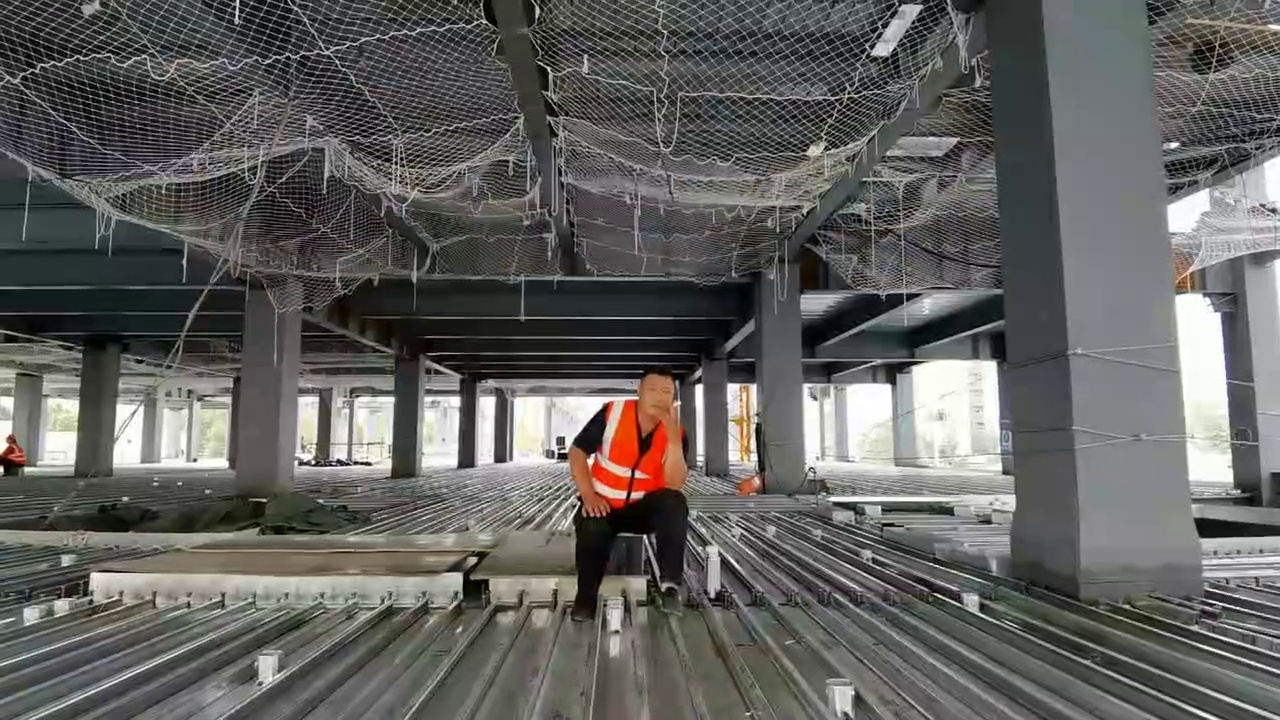head: (590, 365, 685, 451)
people: (563, 362, 695, 621)
